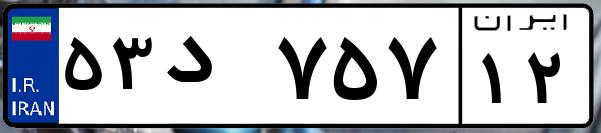1: (475, 38, 525, 113)
2: (525, 38, 570, 115)
3: (110, 28, 158, 98)
5: (330, 28, 385, 110), (57, 26, 110, 100)
7: (270, 28, 330, 110), (385, 28, 445, 110)
د: (158, 20, 270, 120)
